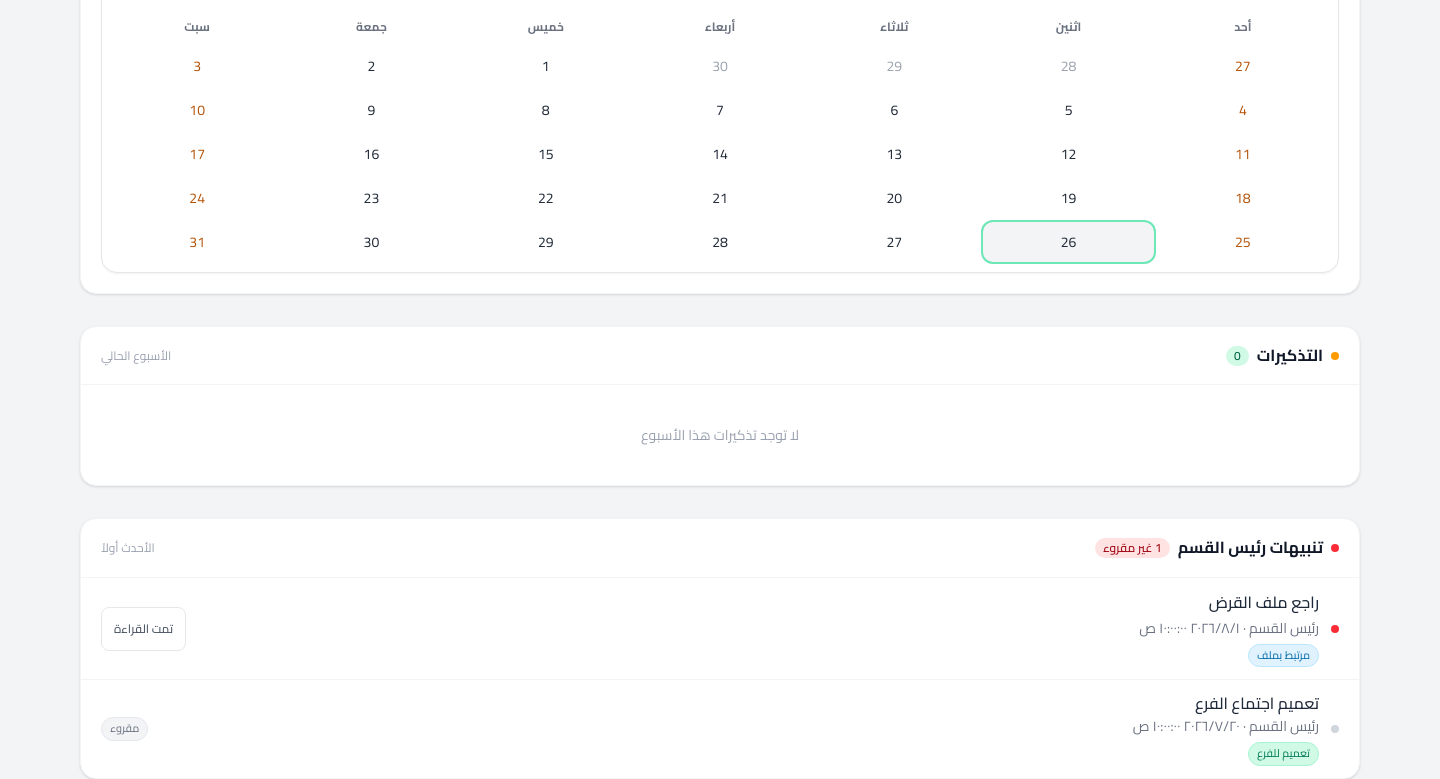
Scenario: Dashboard للمحامي › يعلم المحامي التنبيه كمقروء ويخفض العداد
(page scrolled)
Click the button "تمت القراءة".
click(144, 629)  # box top-left (101, 607), bottom-right (186, 651)
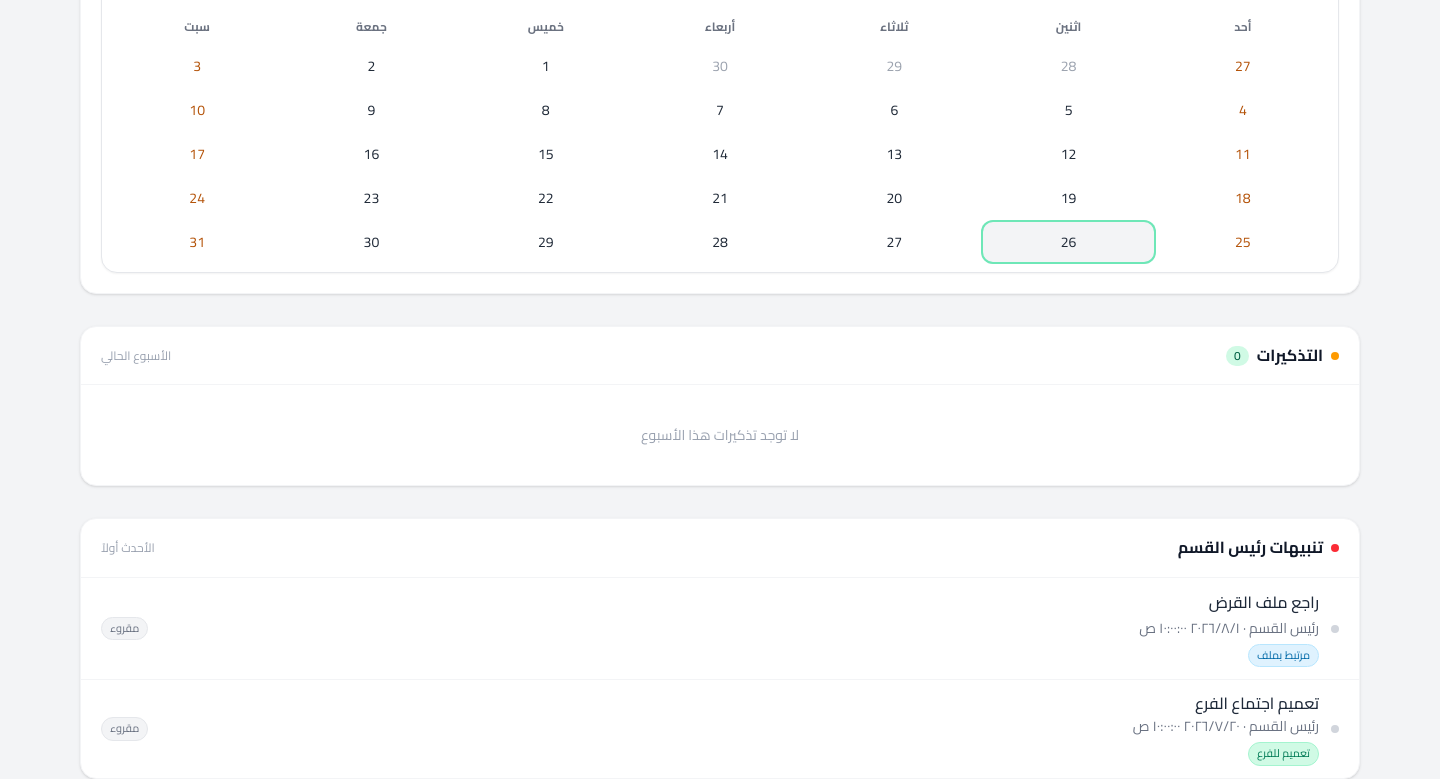
Result: the text "مقروء" is shown 2 times at top-left (101, 617), bottom-right (148, 640); top-left (101, 717), bottom-right (148, 741)
Result: the text "1 غير مقروء" is gone
Result: the button "تمت القراءة" is gone
